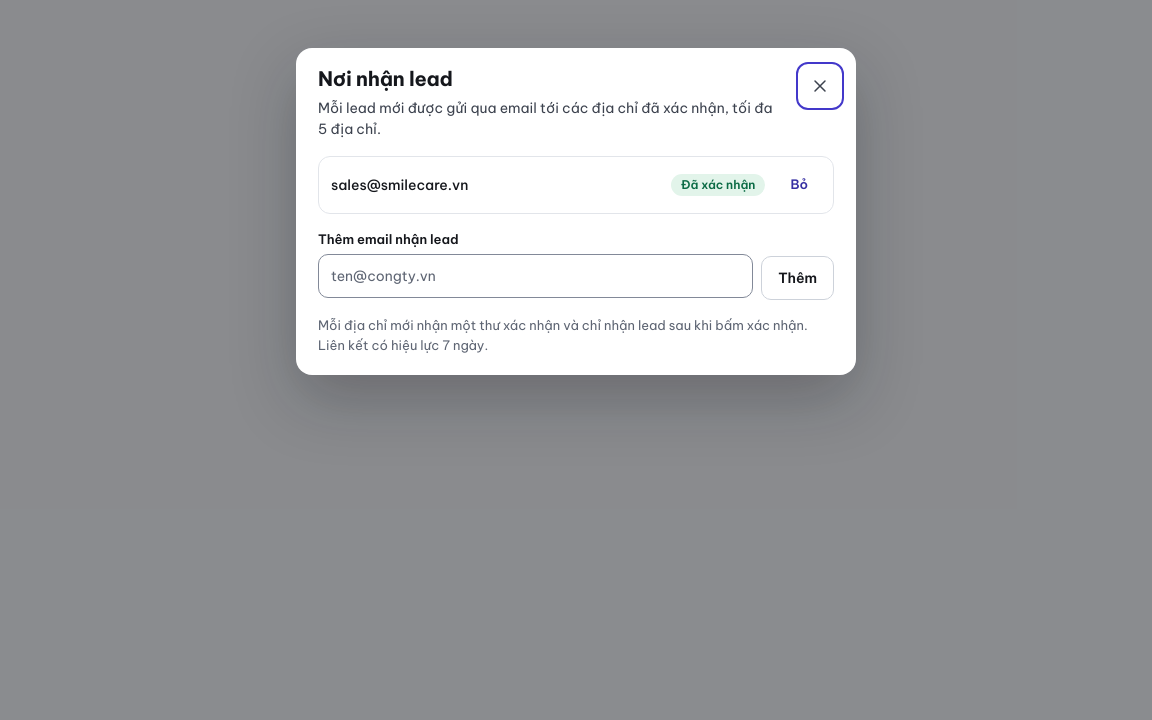
Test: LeadRecipientsDialog › shows why an address was refused next to the field
This screenshot has width=1152, height=720.
Type "sales@smilecare.vn" into the field labelled "Thêm email nhận lead" at x=536, y=276, box [319, 255, 752, 297]
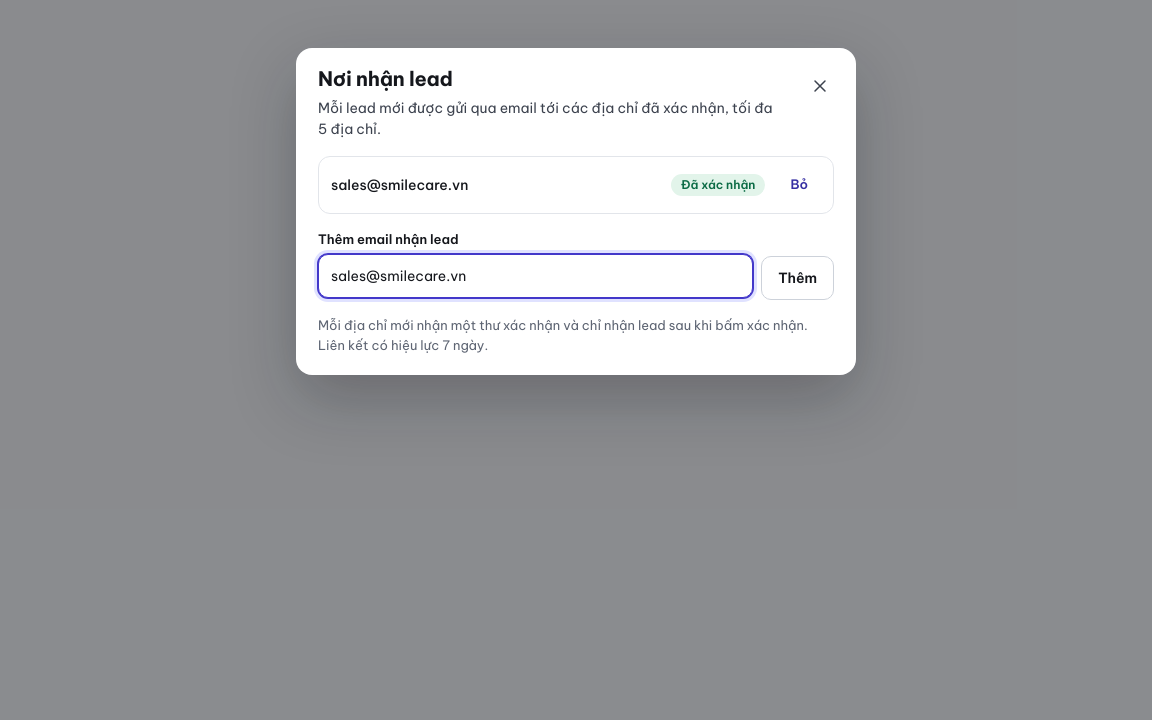
Click the button "Thêm" at x=798, y=278, box [761, 256, 834, 300]
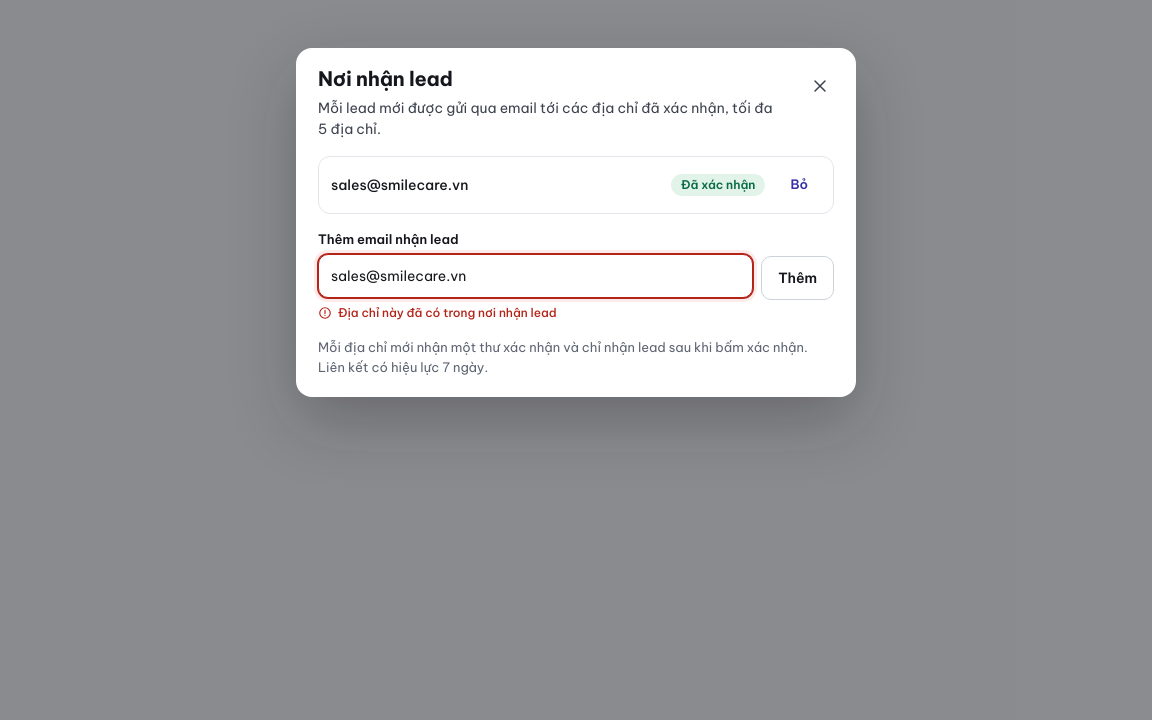
Result: the text "Địa chỉ này đã có trong nơi nhận lead" is shown at [338, 304, 557, 322]
